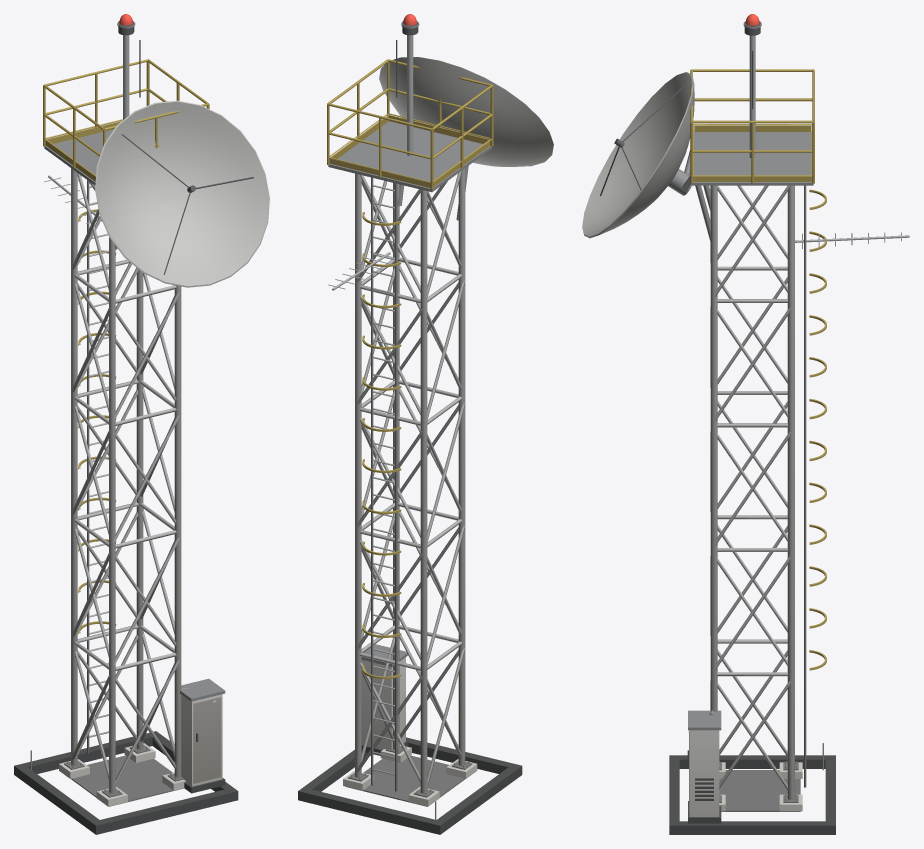
Rendered from tower.glb.
The picture shows the model from 3 angles, left to right: view 1: azimuth 30°, elevation 25°; view 2: azimuth 150°, elevation 25°; view 3: azimuth 270°, elevation 25°; orthographic projection.
Visible parts, largest first — view 1: tower; view 2: tower; view 3: tower.
Boxes of the visible parts, x1=… form: tower: x1=14, y1=14, x2=269, y2=834; tower: x1=298, y1=14, x2=553, y2=834; tower: x1=582, y1=14, x2=909, y2=834.
Size of the model in its own units: 3.04 by 13.51 by 5.1.
